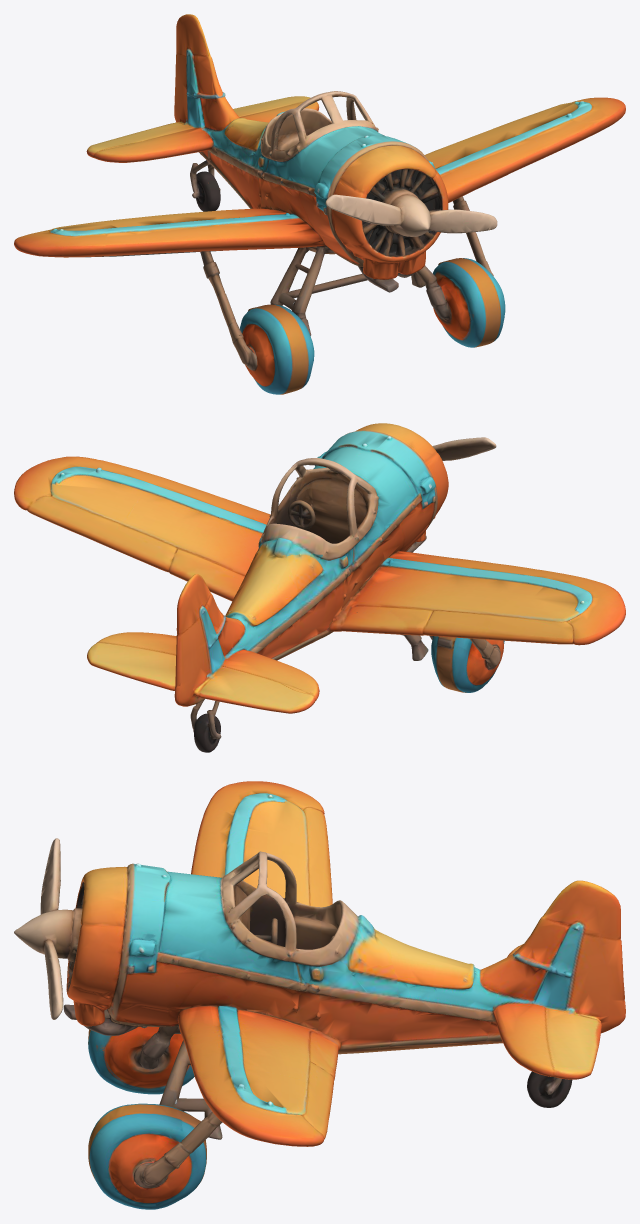
Rendered from aeroplane.glb.
3 renders of one model, top to bottom at view 1: azimuth 30°, elevation 25°; view 2: azimuth 150°, elevation 25°; view 3: azimuth 270°, elevation 25°, orthographic. The views are drawn at different scales.
Parts seen in each view (by area): view 1: tripo_node_9781dd18-ef56-4806-ad0d-4faaafb4a29b; view 2: tripo_node_9781dd18-ef56-4806-ad0d-4faaafb4a29b; view 3: tripo_node_9781dd18-ef56-4806-ad0d-4faaafb4a29b.
Boxes of the visible parts, bbox=[...] form: tripo_node_9781dd18-ef56-4806-ad0d-4faaafb4a29b: bbox=[14, 14, 625, 394]; tripo_node_9781dd18-ef56-4806-ad0d-4faaafb4a29b: bbox=[14, 423, 625, 752]; tripo_node_9781dd18-ef56-4806-ad0d-4faaafb4a29b: bbox=[14, 781, 625, 1209].
Size of the model in its own units: 0.9999 by 0.3792 by 0.7279.
Materials: 1 (1 with a texture image).
